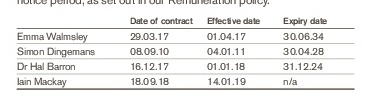table: (0, 0, 368, 104)
